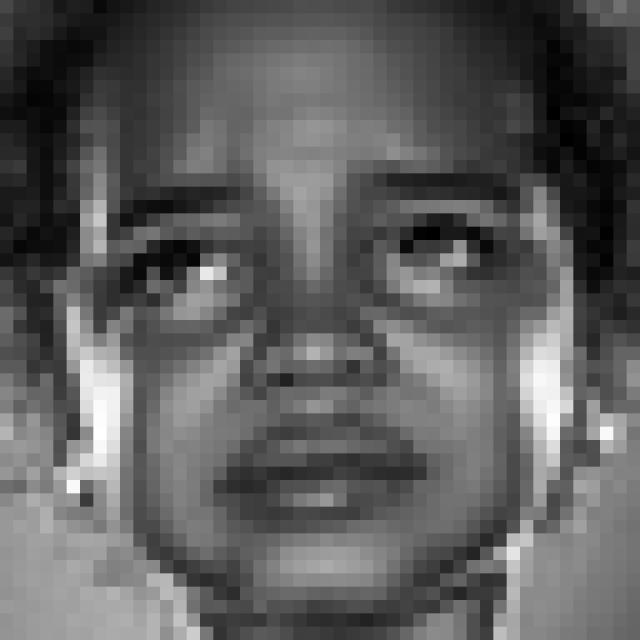sad: (90, 146, 527, 534)
